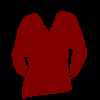felpa: (10, 10, 86, 99)
